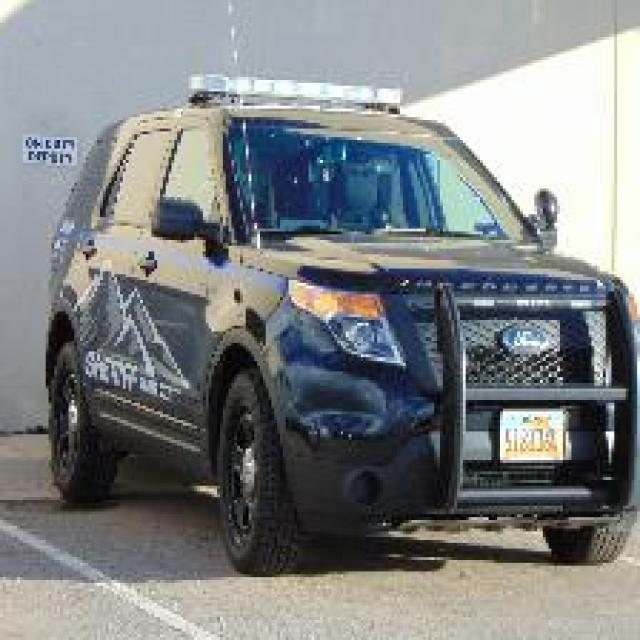emergency: (37, 69, 637, 575)
